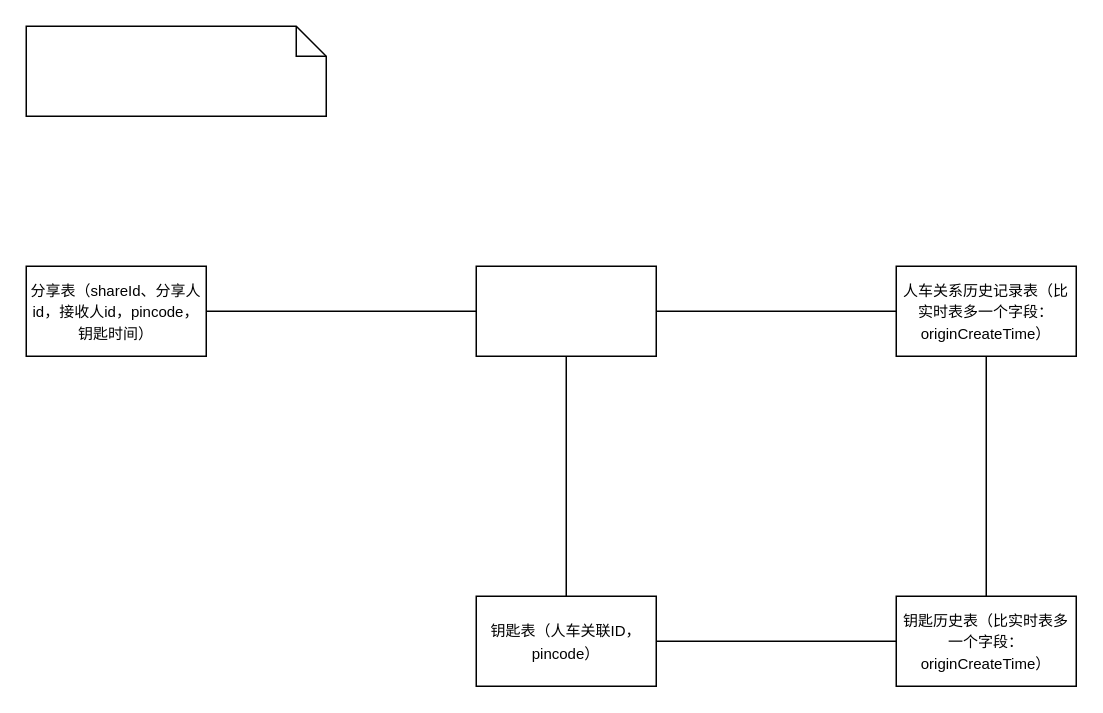
This 1103x713 diagram has some shape labels left out. The shapes that lost their labels are listed below. From the top down, each one's centre as x and y in pixels, then its label:
pixel 175 70: 1、车辆列表（人车关系表） 2、分享列表 （分享表） 3、白名单（钥匙表）
pixel 565 310: 人车关系实时表（shareId、relation_id、vehicleId、userId、relation_type）
